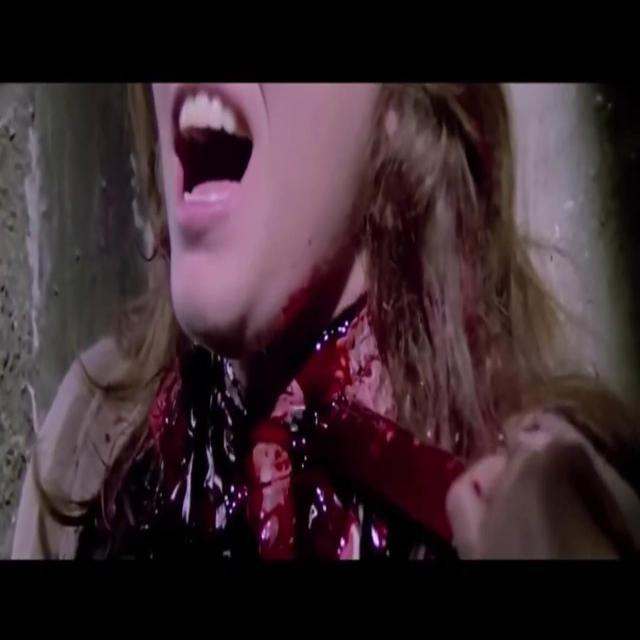flood: (90, 304, 369, 562)
